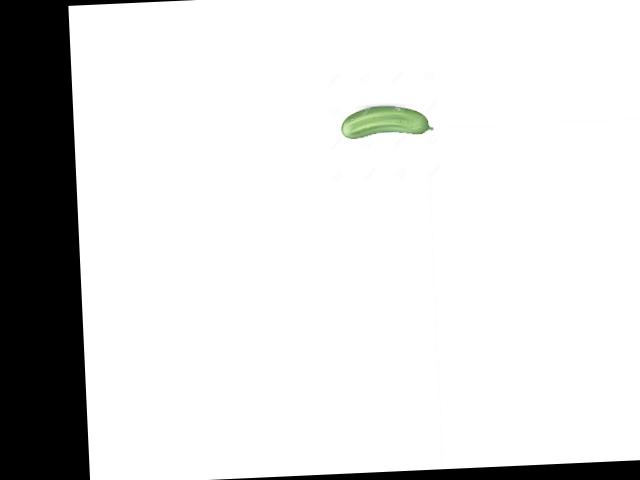cucumber: (340, 103, 433, 139)
